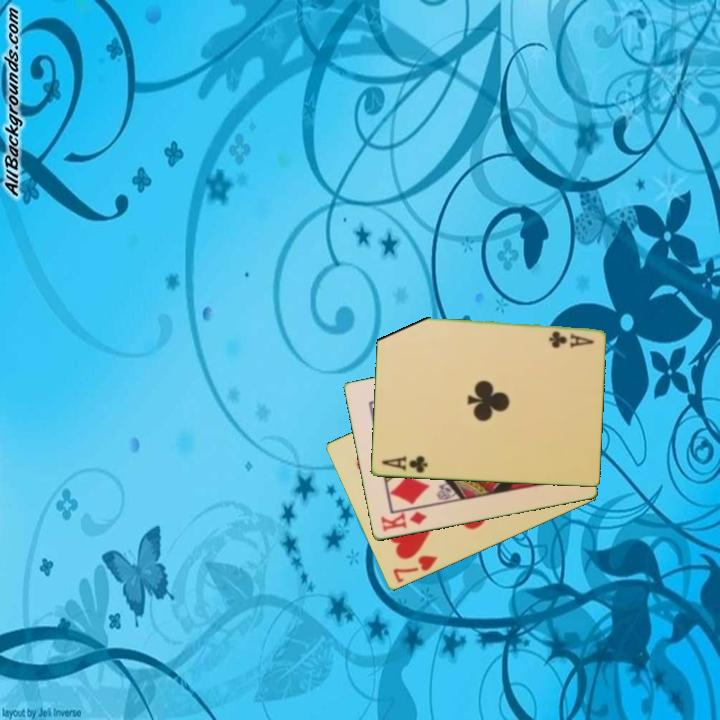7h: (389, 552, 440, 586)
Ac: (378, 452, 430, 476), (545, 328, 596, 350)
Kd: (377, 508, 430, 535)
